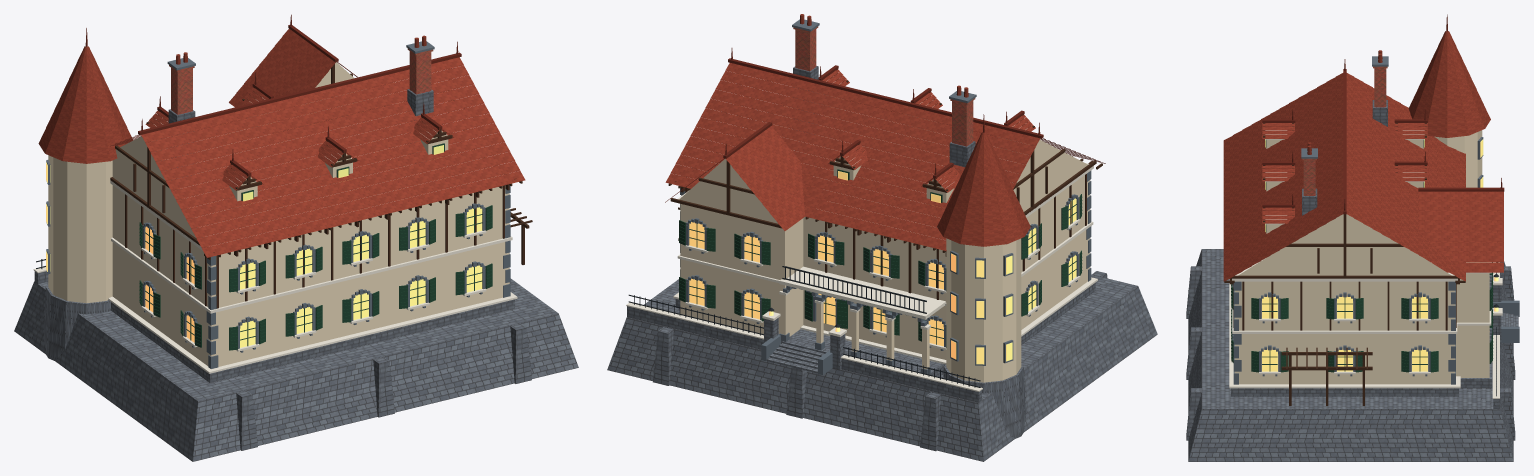
Rendered from fv_sna_04_suong_nguyet_anh_villa_01_lakeview_manor.glb.
3 views of the same model, side by side, from view 1: azimuth 30°, elevation 25°; view 2: azimuth 150°, elevation 25°; view 3: azimuth 270°, elevation 25° (orthographic). The views are drawn at different scales.
Parts seen in each view (by area): view 1: Normandy_Brittany_Layered_Roof, Foundation_Skirt_Neg3p5m, Villa_Stucco_Walls, PineGreen_Louvered_Shutters, Molded_Cornices_And_Sills, Stone_Quoins_And_Arches, Exposed_Timber_Trusses_And_Rafters, Warm_Night_Windows_20h00_Blend, Roof_Ridges_Caps_And_Finials, Brick_Chimney_Stacks; view 2: Foundation_Skirt_Neg3p5m, Normandy_Brittany_Layered_Roof, Villa_Stucco_Walls, Molded_Cornices_And_Sills, Stone_Quoins_And_Arches, PineGreen_Louvered_Shutters, Warm_Night_Windows_20h00_Blend, Exposed_Timber_Trusses_And_Rafters, Roof_Ridges_Caps_And_Finials, Wrought_Iron_Balustrades_And_Gate, Brick_Chimney_Stacks; view 3: Normandy_Brittany_Layered_Roof, Foundation_Skirt_Neg3p5m, Villa_Stucco_Walls, Molded_Cornices_And_Sills, Exposed_Timber_Trusses_And_Rafters, Stone_Quoins_And_Arches, PineGreen_Louvered_Shutters, Warm_Night_Windows_20h00_Blend, Roof_Ridges_Caps_And_Finials, Brick_Chimney_Stacks.
Boxes of the visible parts, x1,y1,x2,y2 form: Normandy_Brittany_Layered_Roof: [38, 28, 525, 257]; Foundation_Skirt_Neg3p5m: [14, 89, 578, 461]; Villa_Stucco_Walls: [48, 62, 509, 366]; PineGreen_Louvered_Shutters: [139, 143, 492, 350]; Molded_Cornices_And_Sills: [33, 97, 517, 373]; Stone_Quoins_And_Arches: [46, 41, 510, 368]; Exposed_Timber_Trusses_And_Rafters: [110, 64, 532, 308]; Warm_Night_Windows_20h00_Blend: [46, 145, 482, 347]; Roof_Ridges_Caps_And_Finials: [85, 14, 461, 183]; Brick_Chimney_Stacks: [169, 48, 433, 114]; Foundation_Skirt_Neg3p5m: [607, 66, 1157, 461]; Normandy_Brittany_Layered_Roof: [665, 14, 1040, 251]; Villa_Stucco_Walls: [679, 140, 1090, 382]; Molded_Cornices_And_Sills: [626, 80, 1097, 391]; Stone_Quoins_And_Arches: [680, 19, 1091, 374]; PineGreen_Louvered_Shutters: [679, 169, 1082, 347]; Warm_Night_Windows_20h00_Blend: [689, 171, 1076, 364]; Exposed_Timber_Trusses_And_Rafters: [668, 69, 1102, 299]; Roof_Ridges_Caps_And_Finials: [665, 48, 1105, 202]; Wrought_Iron_Balustrades_And_Gate: [628, 266, 980, 387]; Brick_Chimney_Stacks: [793, 26, 975, 146]; Normandy_Brittany_Layered_Roof: [1223, 31, 1503, 281]; Foundation_Skirt_Neg3p5m: [1186, 100, 1518, 461]; Villa_Stucco_Walls: [1234, 130, 1489, 384]; Molded_Cornices_And_Sills: [1229, 130, 1502, 398]; Exposed_Timber_Trusses_And_Rafters: [1224, 123, 1497, 405]; Stone_Quoins_And_Arches: [1232, 56, 1519, 384]; PineGreen_Louvered_Shutters: [1231, 140, 1493, 372]; Warm_Night_Windows_20h00_Blend: [1262, 139, 1498, 371]; Roof_Ridges_Caps_And_Finials: [1262, 14, 1504, 214]; Brick_Chimney_Stacks: [1302, 66, 1387, 195].
Size of the model in its own units: 28.11 by 21.63 by 22.32.
Materials: 12 (3 with a texture image).
